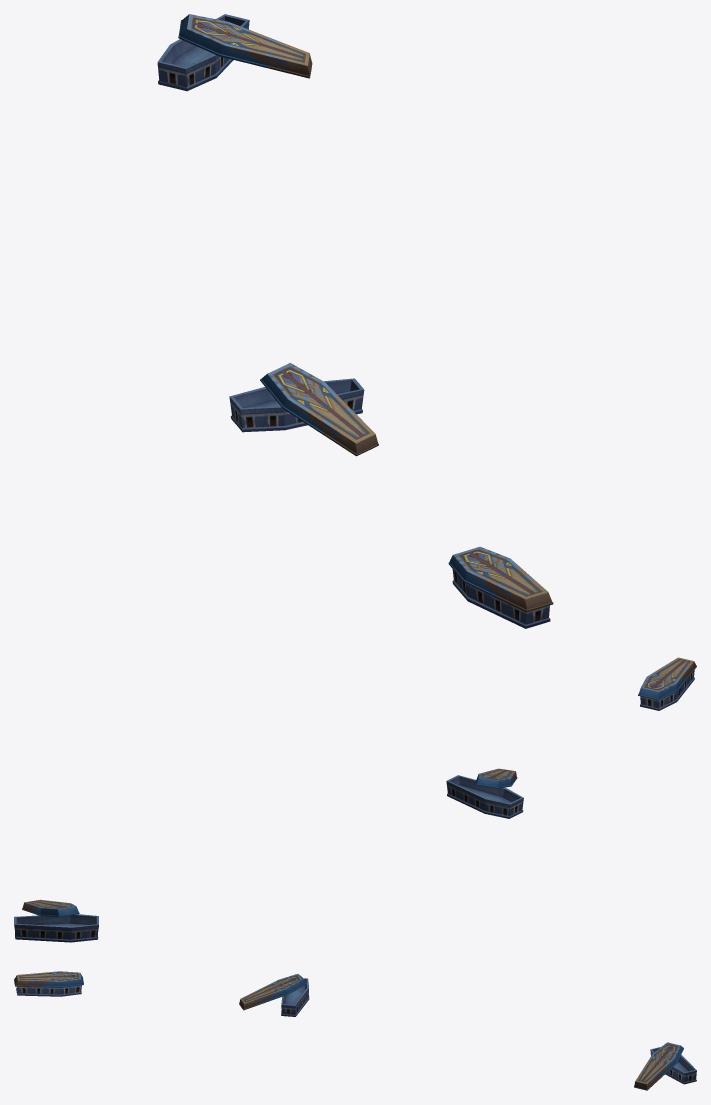
The model's file is Area_12_1.fbx.
3 renders of one model, top to bottom at view 1: azimuth 30°, elevation 25°; view 2: azimuth 150°, elevation 25°; view 3: azimuth 270°, elevation 25°, orthographic. The views are drawn at different scales.
Visible parts, largest first — view 1: Area_12_1; view 2: Area_12_1; view 3: Area_12_1.
Part boxes in pixels (x1,y1,x2,y2): Area_12_1: (157, 14, 553, 628); Area_12_1: (14, 657, 696, 942); Area_12_1: (14, 971, 696, 1090).
Bounding box in the file's own units: 1368 × 157 × 3719.
